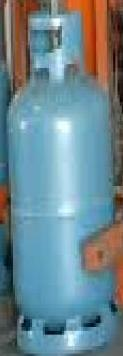cylinder: (1, 1, 123, 356)
